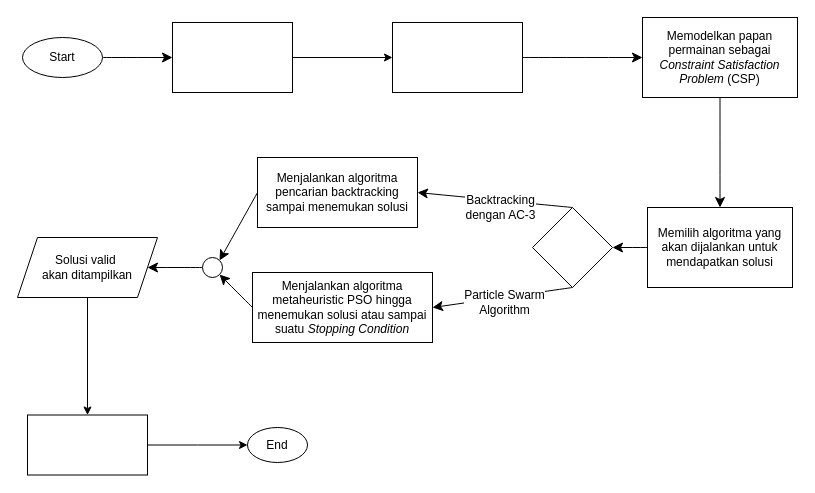
The diagram is 815 pixels wide and 493 high, and some of its shapes have lost their labels. The centre of each missing label's shape, as x and y in pixels:
"Algoritma" goes at (x=572, y=247).
"Melakukan perbandingan dan evaluasi" goes at (x=87, y=444).
"Memilih papan yang akan menjadi tes kasus" goes at (x=232, y=57).
"Mengambil data papan dari file JSON hasil scraping" goes at (x=457, y=57).
